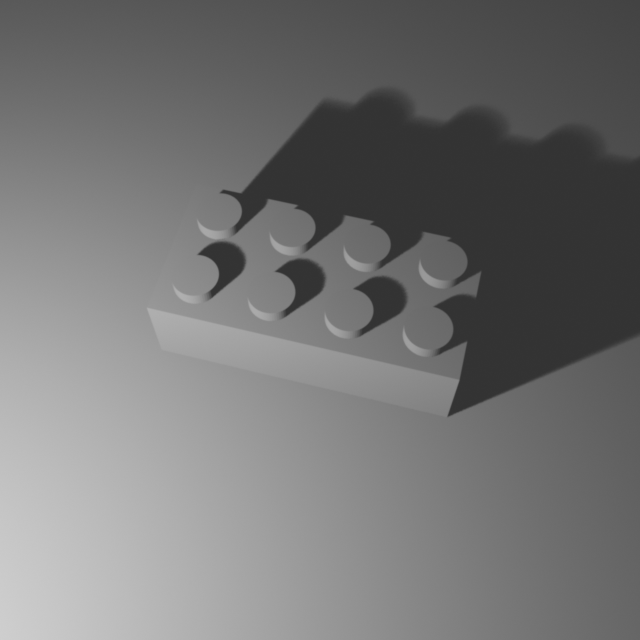lego_2x4: (144, 175, 489, 417)
